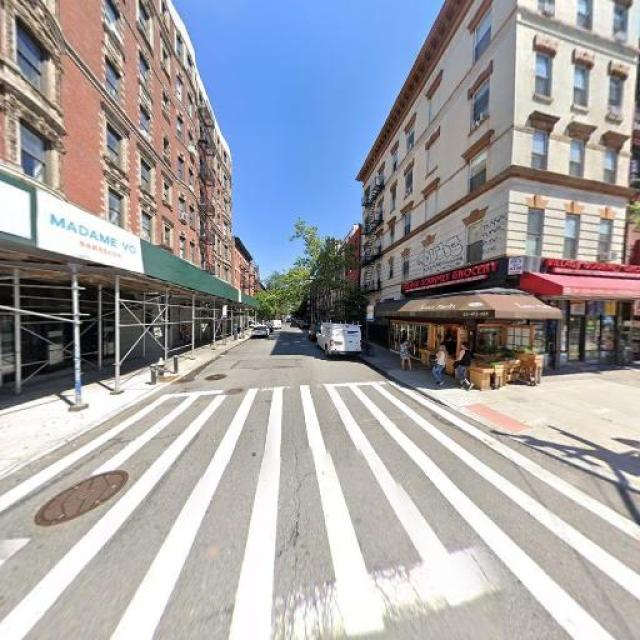Building: (367, 1, 633, 367), (1, 1, 232, 380)
